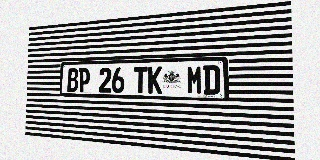2: (99, 67, 112, 93)
6: (112, 67, 125, 93)
B: (67, 68, 78, 92)
D: (203, 65, 220, 95)
K: (148, 66, 162, 94)
M: (187, 65, 203, 94)
P: (78, 68, 90, 92)
T: (134, 67, 147, 93)
